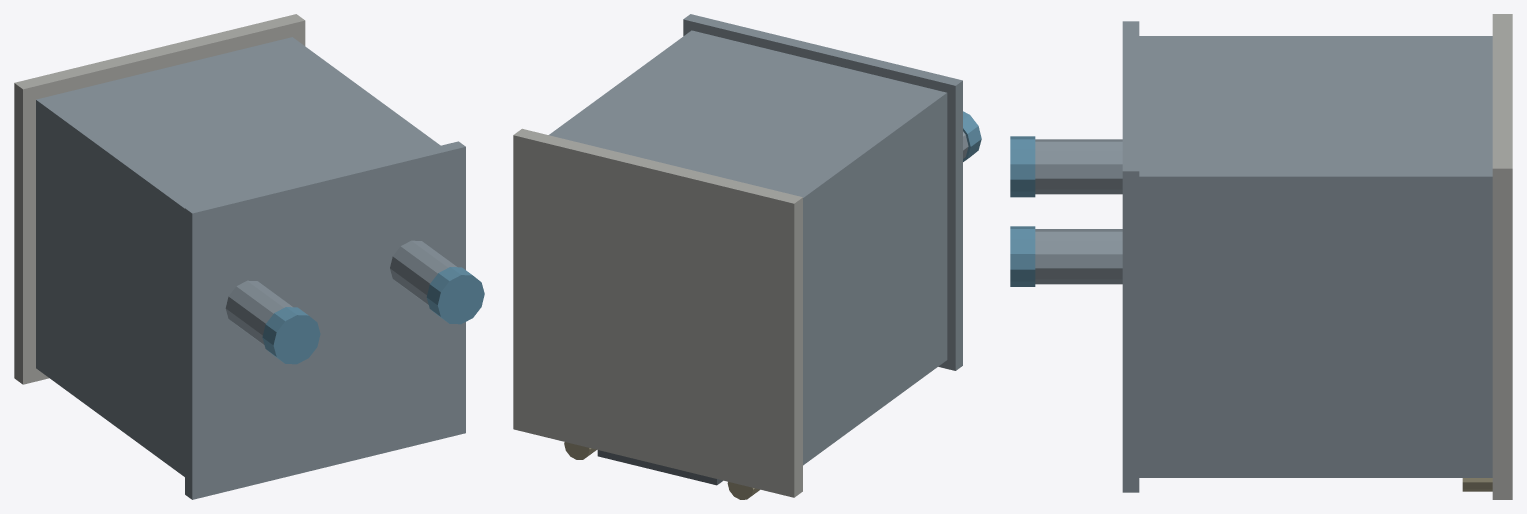
Rendered from AGE_VIII_industrial.glb.
3 views of the same model, side by side, from view 1: azimuth 30°, elevation 25°; view 2: azimuth 150°, elevation 25°; view 3: azimuth 270°, elevation 25° (orthographic). The views are drawn at different scales.
Visible parts, largest first — view 1: world; view 2: world; view 3: world.
Part boxes in pixels (left/top/right/bottom): world: left=14, top=14, right=484, bottom=499; world: left=513, top=14, right=981, bottom=499; world: left=1010, top=14, right=1512, bottom=499.
Size of the model in its own units: 6.6 by 7.05 by 9.06.
